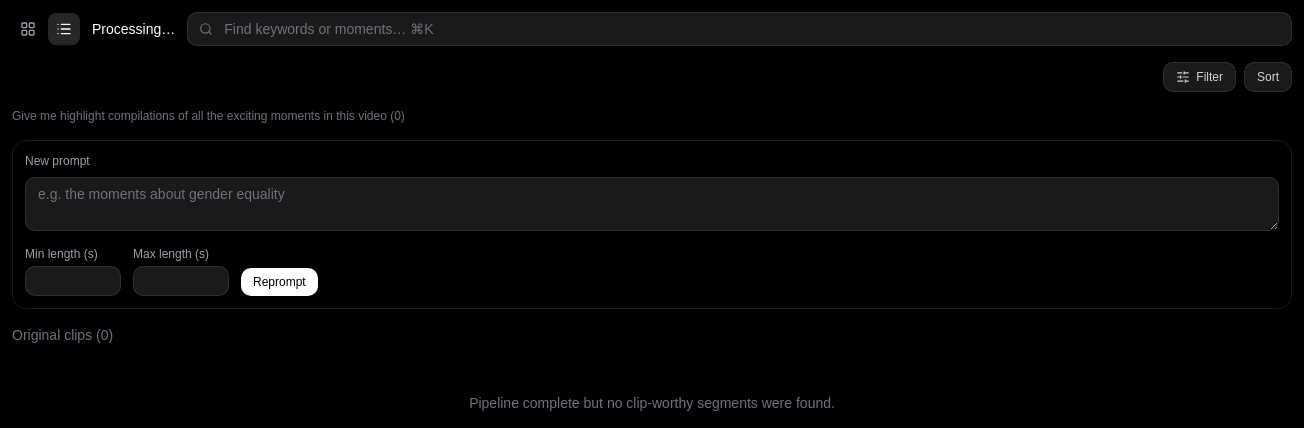
JobDetailPage — reprompt › disables the button while the request is pending
Type "gender equality" into the text box labelled "New prompt" at (652,204), box [25,177,1279,231]
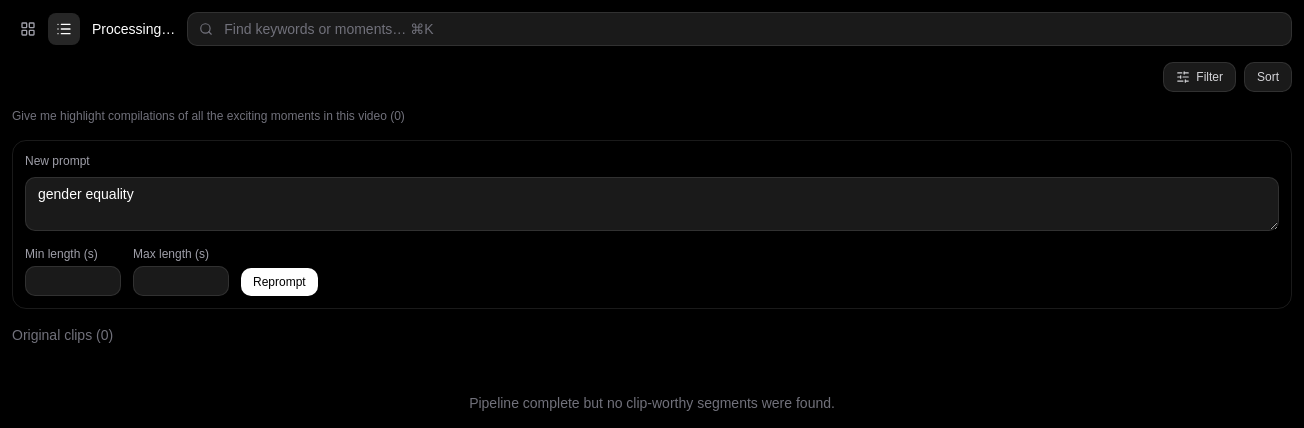
Click the button "Reprompt" at (279,282), box [241,268,318,296]
Wait 50 ms
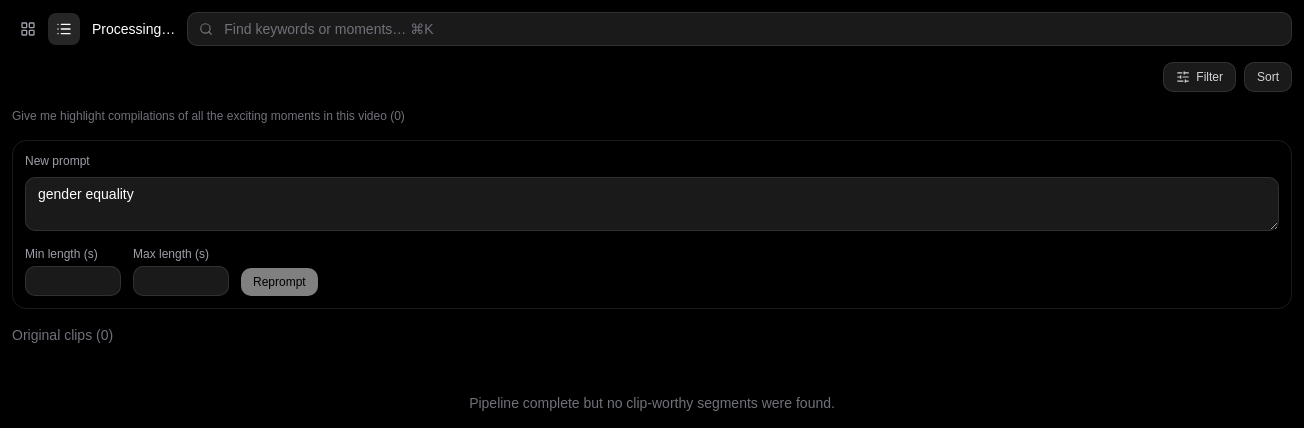
Check: the button "Reprompt" is disabled, box [241,268,318,296]
